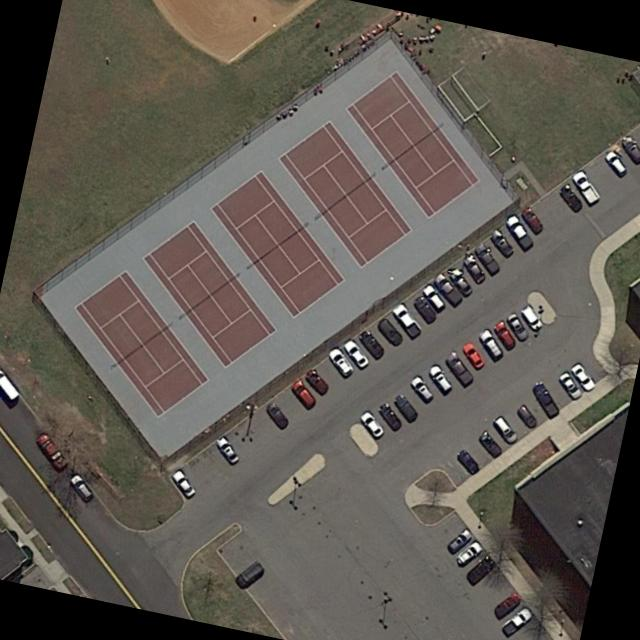small-vehicle: (387, 298, 424, 339), (525, 379, 560, 419), (33, 429, 68, 468), (461, 551, 496, 588), (429, 268, 462, 306), (498, 603, 534, 637), (567, 168, 601, 204), (440, 348, 473, 385), (501, 211, 533, 249), (372, 313, 405, 348), (355, 327, 387, 363), (231, 557, 267, 589), (211, 431, 242, 467), (261, 397, 292, 432), (487, 589, 522, 620), (324, 344, 354, 378), (445, 262, 475, 296), (490, 411, 519, 446), (289, 377, 320, 409), (374, 399, 404, 432), (390, 390, 419, 424), (459, 250, 488, 284), (441, 523, 472, 554), (355, 408, 385, 440), (554, 181, 583, 214), (485, 225, 514, 258), (474, 428, 503, 460), (423, 360, 452, 392), (341, 337, 369, 370), (169, 467, 198, 498), (568, 360, 597, 391), (302, 365, 330, 397), (554, 367, 582, 399), (408, 291, 436, 323), (472, 240, 499, 273), (475, 327, 503, 358), (454, 537, 483, 566), (503, 310, 530, 341), (491, 318, 516, 351), (65, 471, 93, 500), (512, 399, 539, 429), (457, 338, 484, 368), (518, 301, 544, 331), (0, 366, 21, 403), (454, 445, 479, 476), (518, 204, 544, 233), (601, 147, 627, 175), (617, 131, 640, 162), (408, 374, 434, 401), (420, 282, 445, 310)
